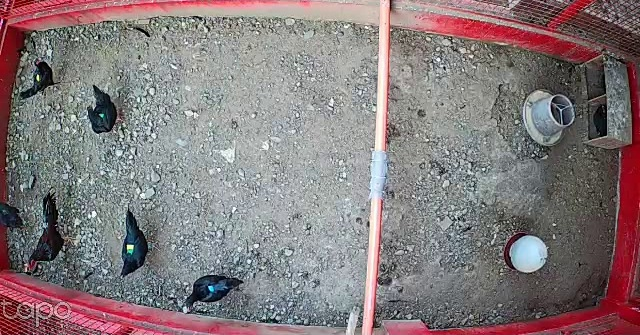Chicken: (117, 204, 168, 279), (183, 270, 243, 314), (12, 57, 70, 99), (85, 85, 128, 139)
Rooster: (18, 192, 79, 275)
Saddle_Color_Blue: (208, 284, 214, 293)
Saddle_Color_Yellow: (35, 73, 42, 83)
Saddle_Color_YellowGreen: (125, 242, 136, 254)
